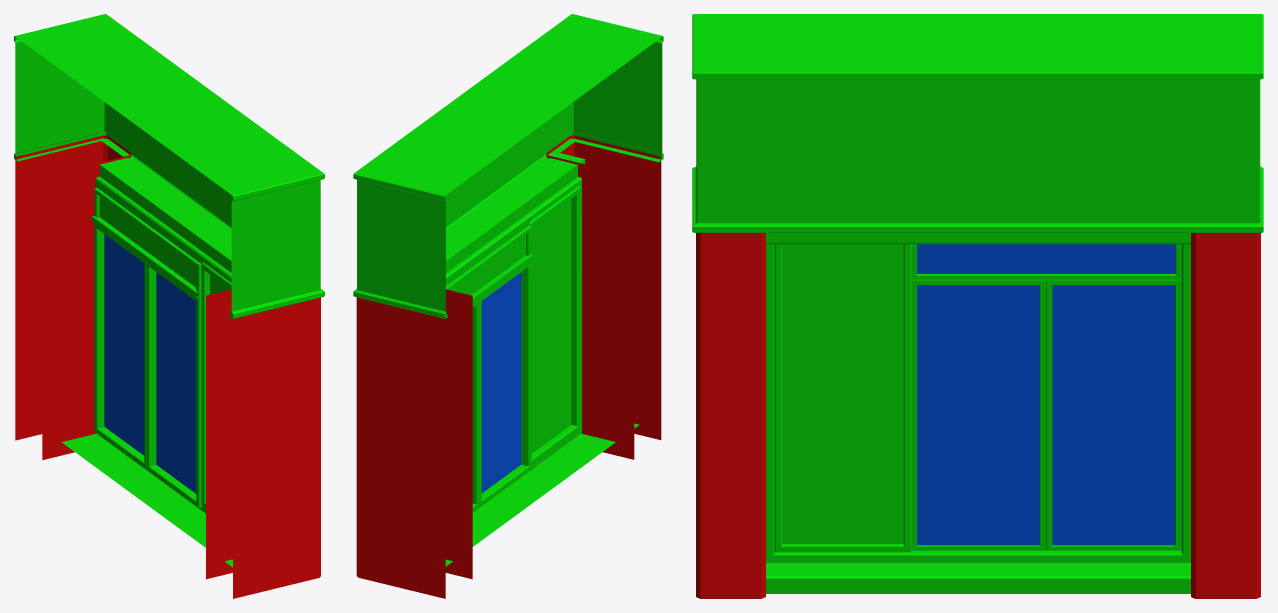
The model's file is shop_G.fbx.
3 renders of one model, left to right at view 1: azimuth 30°, elevation 25°; view 2: azimuth 150°, elevation 25°; view 3: azimuth 270°, elevation 25°, orthographic. The views are drawn at different scales.
Parts seen in each view (by area): view 1: polySurface206; view 2: polySurface206; view 3: polySurface206.
Part boxes in pixels (x1,y1,x2,y2): polySurface206: (14,14,324,598); polySurface206: (353,14,663,598); polySurface206: (692,14,1263,598).
Bounding box in the file's own units: 72.88 × 305 × 300.
